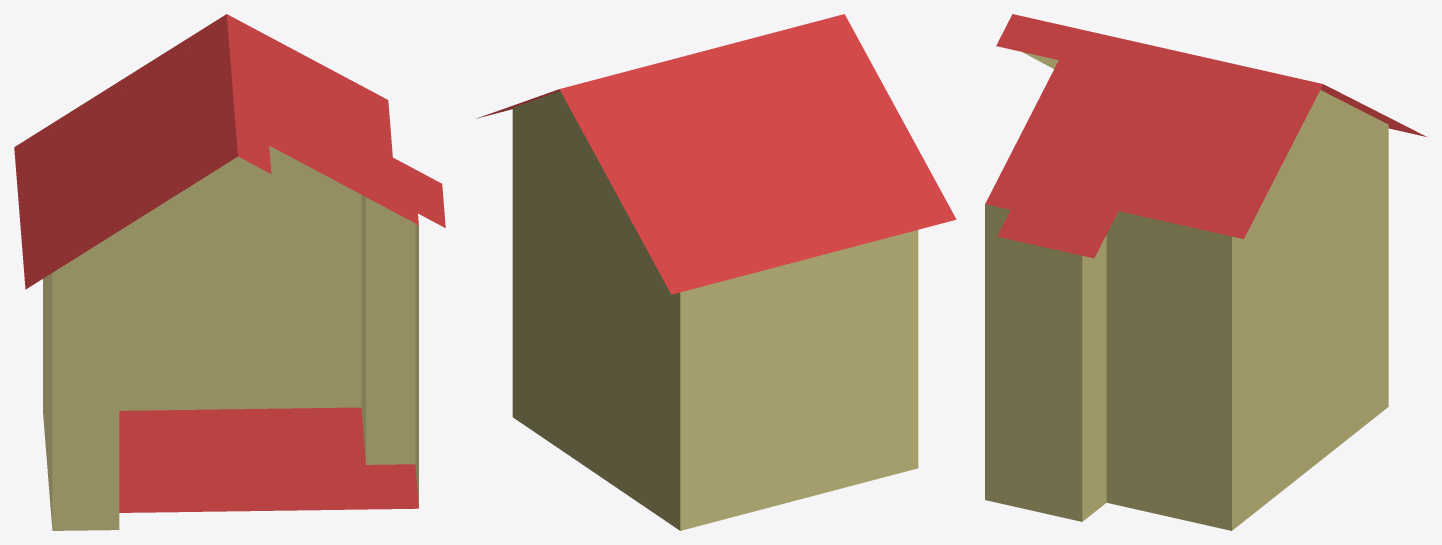
3 renders of one model, left to right at view 1: azimuth 30°, elevation 25°; view 2: azimuth 150°, elevation 25°; view 3: azimuth 270°, elevation 25°, orthographic. The views are drawn at different scales.
Bounding box in the file's own units: 13.18 × 11.42 × 11.41.
